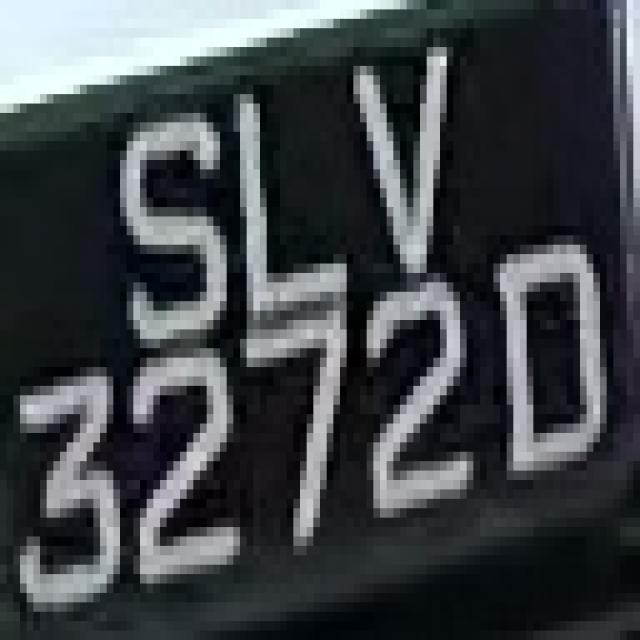2: (114, 339, 254, 612), (360, 273, 480, 527)
3: (0, 5, 1, 10)
7: (234, 320, 374, 574)
D: (487, 216, 613, 489)
L: (220, 85, 367, 358)
S: (114, 76, 214, 377)
V: (340, 19, 473, 301)
